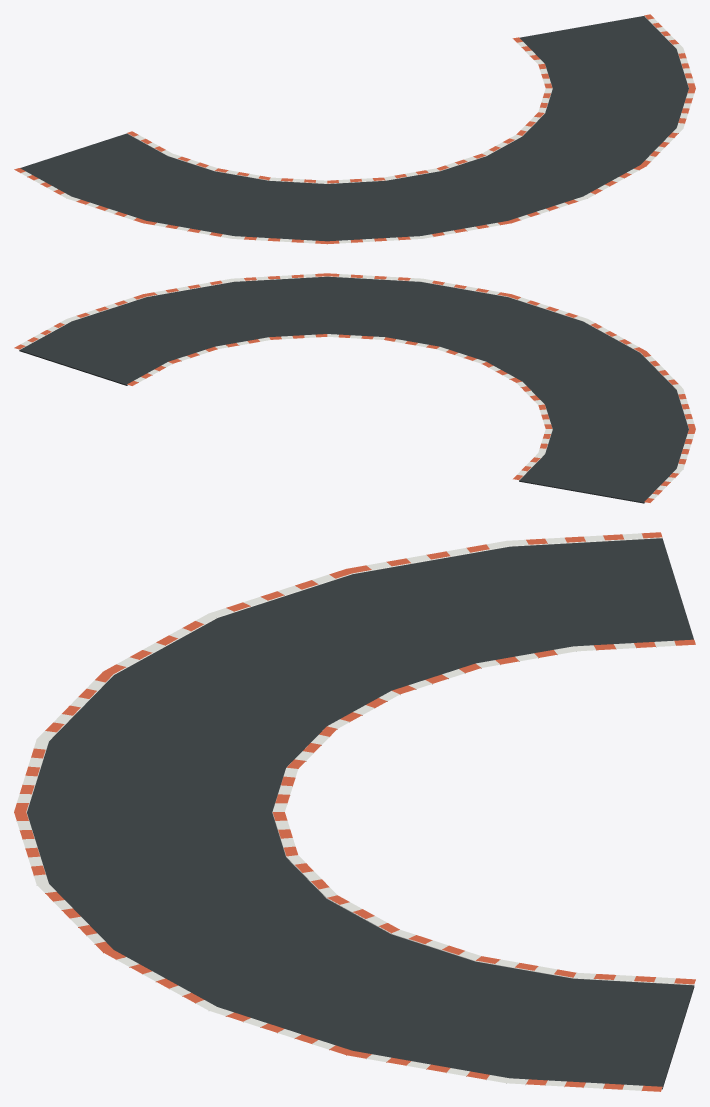
File: hairpin.glb
3 views of the same model, one above another, from view 1: azimuth 30°, elevation 25°; view 2: azimuth 150°, elevation 25°; view 3: azimuth 270°, elevation 25° (orthographic). The views are drawn at different scales.
Parts seen in each view (by area): view 1: hairpin-180; view 2: hairpin-180; view 3: hairpin-180.
Boxes of the visible parts, x1,y1,x2,y2 form: hairpin-180: [14, 14, 695, 244]; hairpin-180: [14, 273, 695, 503]; hairpin-180: [14, 532, 695, 1091].
Bounding box in the file's own units: 65.09 × 0.147 × 33.52.
